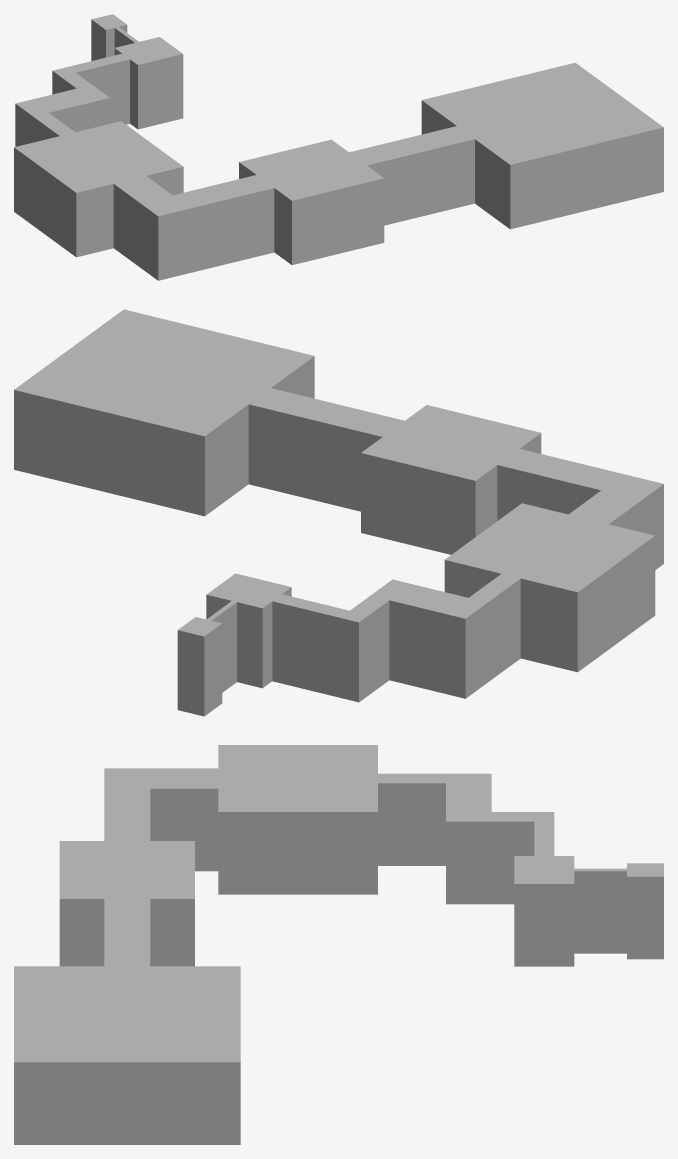
Rendered from tutorialStage.obj.
3 renders of one model, top to bottom at view 1: azimuth 30°, elevation 25°; view 2: azimuth 150°, elevation 25°; view 3: azimuth 270°, elevation 25°, orthographic. The views are drawn at different scales.
Parts seen in each view (by area): view 1: ground; view 2: ground; view 3: ground.
Boxes of the visible parts, bbox=[...] form: ground: bbox=[14, 14, 663, 280]; ground: bbox=[14, 309, 663, 716]; ground: bbox=[14, 745, 663, 1144].
Size of what is drawn, in the model's own units: 329 by 39.94 by 285.
1 material, 1 textured.
